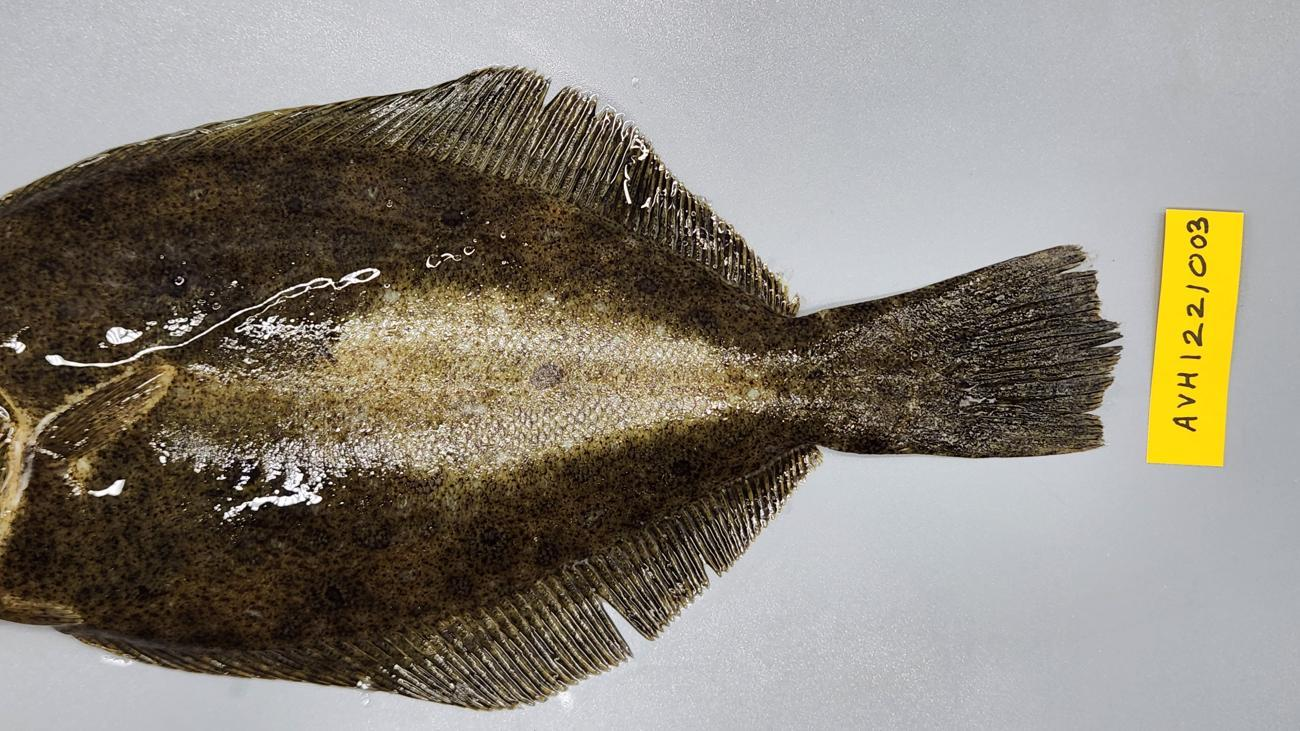VIDYH: (45, 424, 805, 644)
